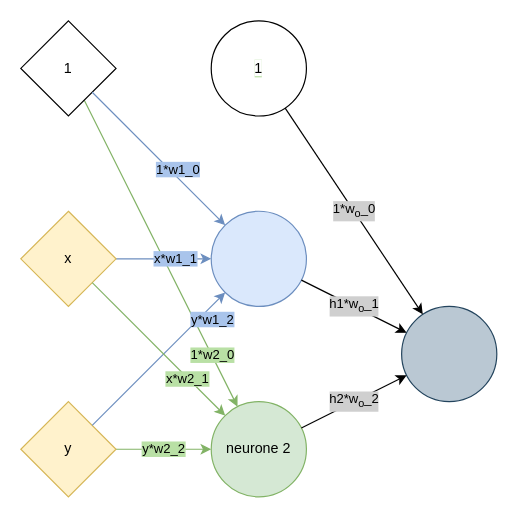
The diagram is 518 pixels wide and 518 high, and some of its shapes have lost their labels. Each missing label, with the box of its shape:
neurone 1: (210, 210, 306, 306)
neurone out: (400, 305, 497, 402)
